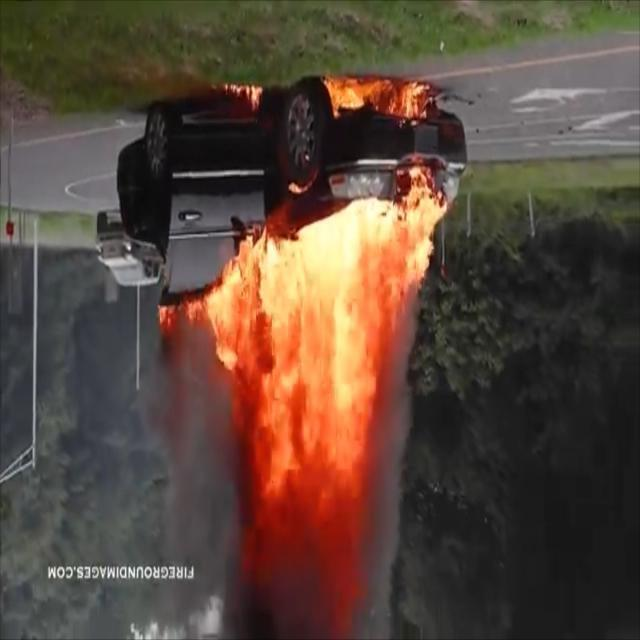fire: (158, 167, 458, 638), (223, 74, 438, 142)
